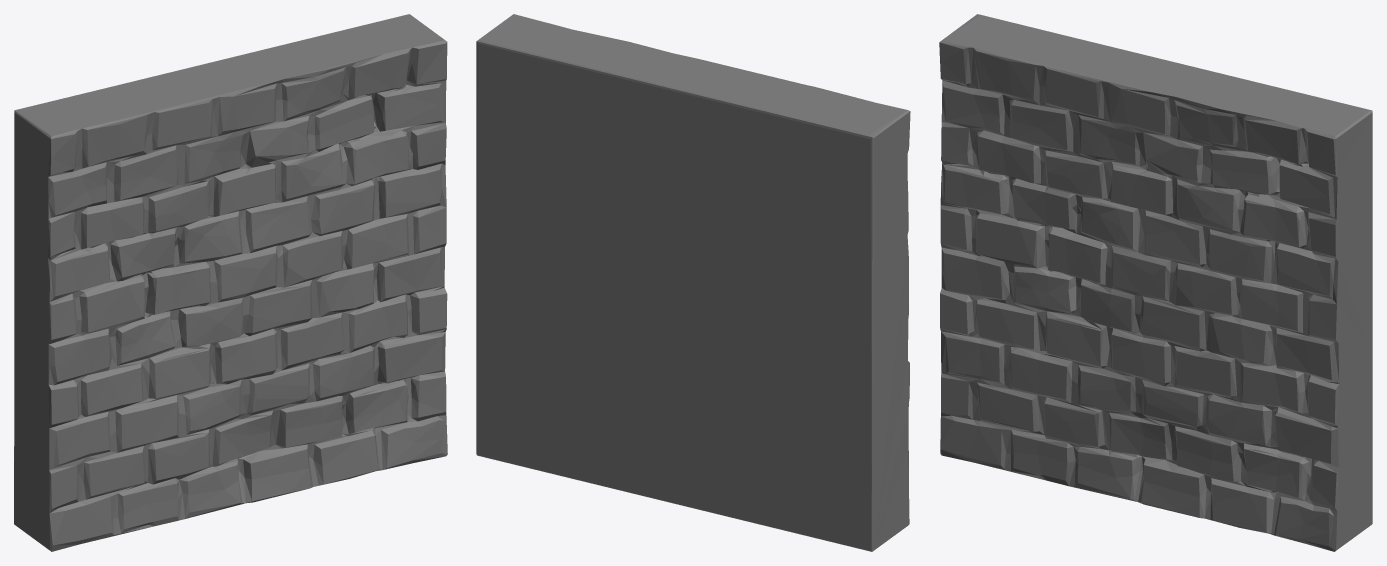
The model's file is modular_wall_3x3m_b.FBX.
The picture shows the model from 3 angles, left to right: view 1: azimuth 30°, elevation 25°; view 2: azimuth 150°, elevation 25°; view 3: azimuth 330°, elevation 25°; orthographic projection.
Visible parts, largest first — view 1: modular_wall_3x3m_b; view 2: modular_wall_3x3m_b; view 3: modular_wall_3x3m_b.
Boxes of the visible parts, box(x1,y1,x2,y2) form: modular_wall_3x3m_b: box(14, 14, 447, 551); modular_wall_3x3m_b: box(476, 14, 910, 551); modular_wall_3x3m_b: box(939, 14, 1372, 551).
Bounding box in the file's own units: 3 × 3 × 0.4969.
